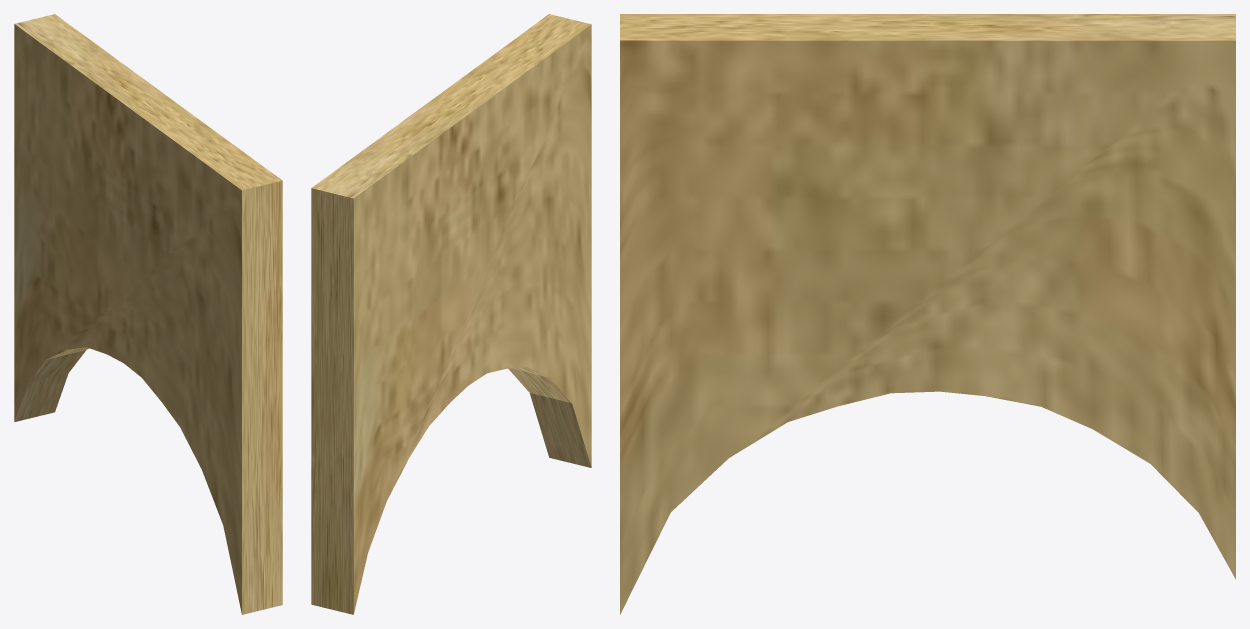
File: StoneArc.fbx
The picture shows the model from 3 angles, left to right: view 1: azimuth 30°, elevation 25°; view 2: azimuth 150°, elevation 25°; view 3: azimuth 270°, elevation 25°; orthographic projection. The views are drawn at different scales.
Parts seen in each view (by area): view 1: Cube; view 2: Cube; view 3: Cube.
Boxes of the visible parts, x1=… form: Cube: x1=14, y1=14, x2=282, y2=614; Cube: x1=311, y1=14, x2=591, y2=614; Cube: x1=620, y1=14, x2=1235, y2=614.
Bounding box in the file's own units: 43.19 × 432 × 419.
